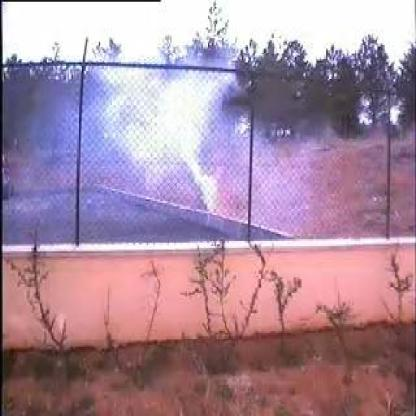-: (66, 59, 256, 236)
